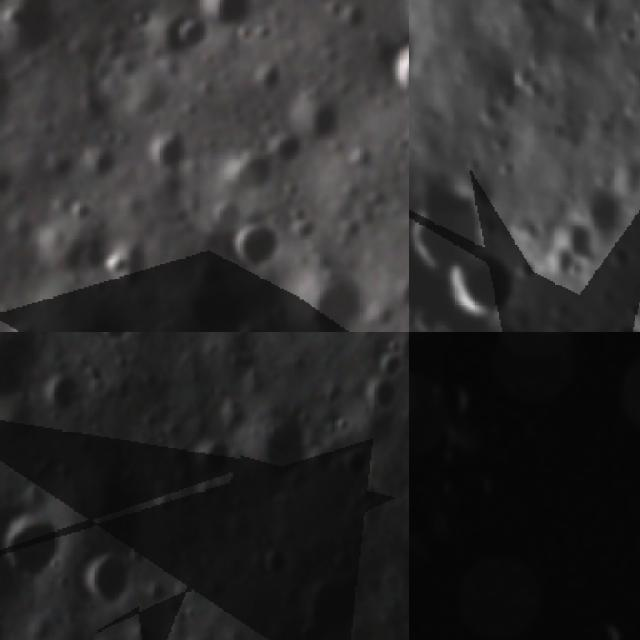crater: (409, 171, 494, 268), (439, 248, 524, 320), (284, 265, 367, 332), (441, 460, 512, 530), (573, 169, 634, 248), (538, 208, 602, 282), (0, 0, 73, 61), (418, 364, 484, 430), (548, 595, 640, 640), (215, 146, 284, 204), (294, 580, 359, 640), (11, 504, 59, 580), (263, 416, 314, 486), (287, 90, 350, 146), (79, 546, 130, 612), (226, 220, 288, 273), (0, 332, 38, 403), (142, 128, 197, 174), (191, 0, 259, 36), (77, 142, 126, 188), (162, 14, 211, 59), (381, 31, 409, 102), (188, 434, 233, 477), (508, 60, 554, 102), (46, 368, 80, 419), (353, 496, 390, 534), (102, 244, 137, 281), (362, 378, 399, 413), (255, 546, 294, 578), (340, 446, 372, 482), (620, 478, 640, 535), (213, 398, 251, 427), (409, 14, 426, 74), (325, 550, 361, 574), (599, 313, 640, 332), (376, 353, 408, 375), (93, 332, 138, 346), (617, 21, 640, 48), (74, 0, 125, 11), (632, 4, 640, 28)
